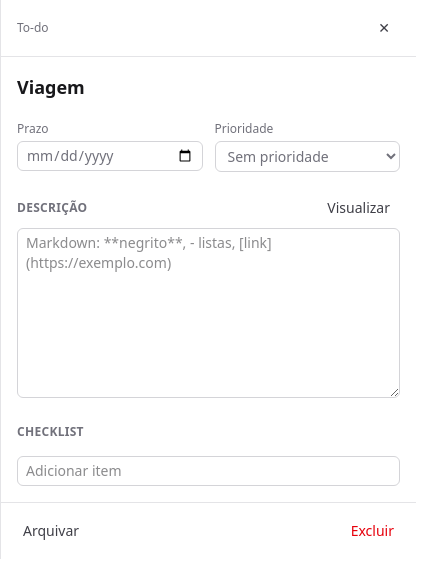
Test: CardPanel › descrição em Markdown com visualização
In the text box named "Descrição": (208, 313) [17, 228, 400, 398], type "Levar **documentos**"
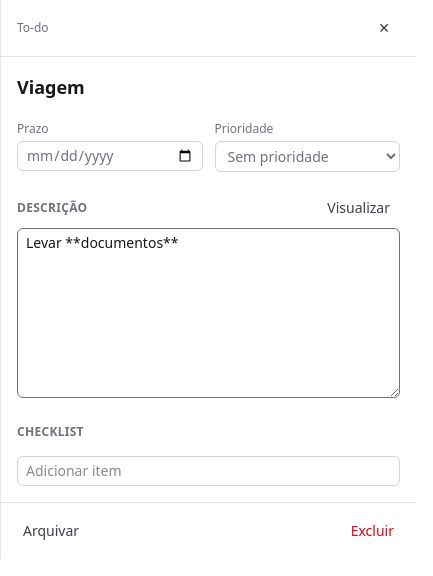
Click the button "Visualizar": (359, 208) [317, 192, 400, 224]
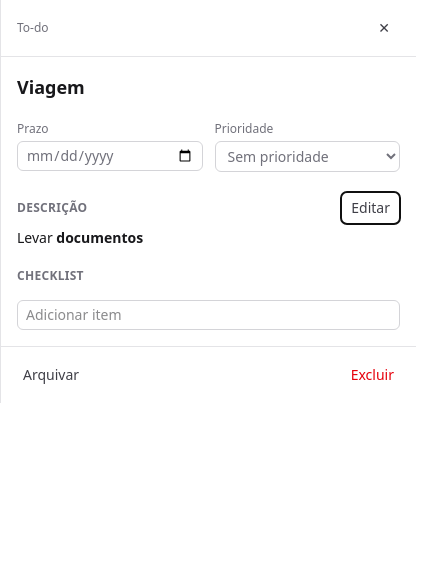
Click the button "Editar": (371, 208) [341, 192, 400, 224]
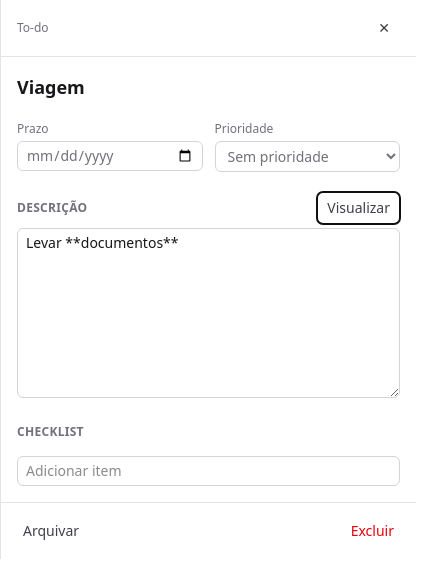
Expected: the text box named "Descrição" is shown, [17, 228, 400, 398]
